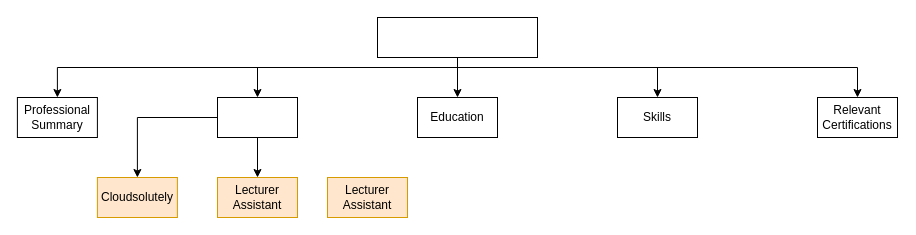
This 916x235 diagram has some shape labels left out. Here are the shapes that lost their labels. From the top down, the box of each, then its label:
(376, 16, 538, 58): Business Analyst
(216, 96, 298, 138): Experiences
